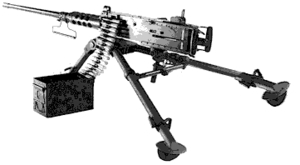rifle: (3, 3, 289, 157)
